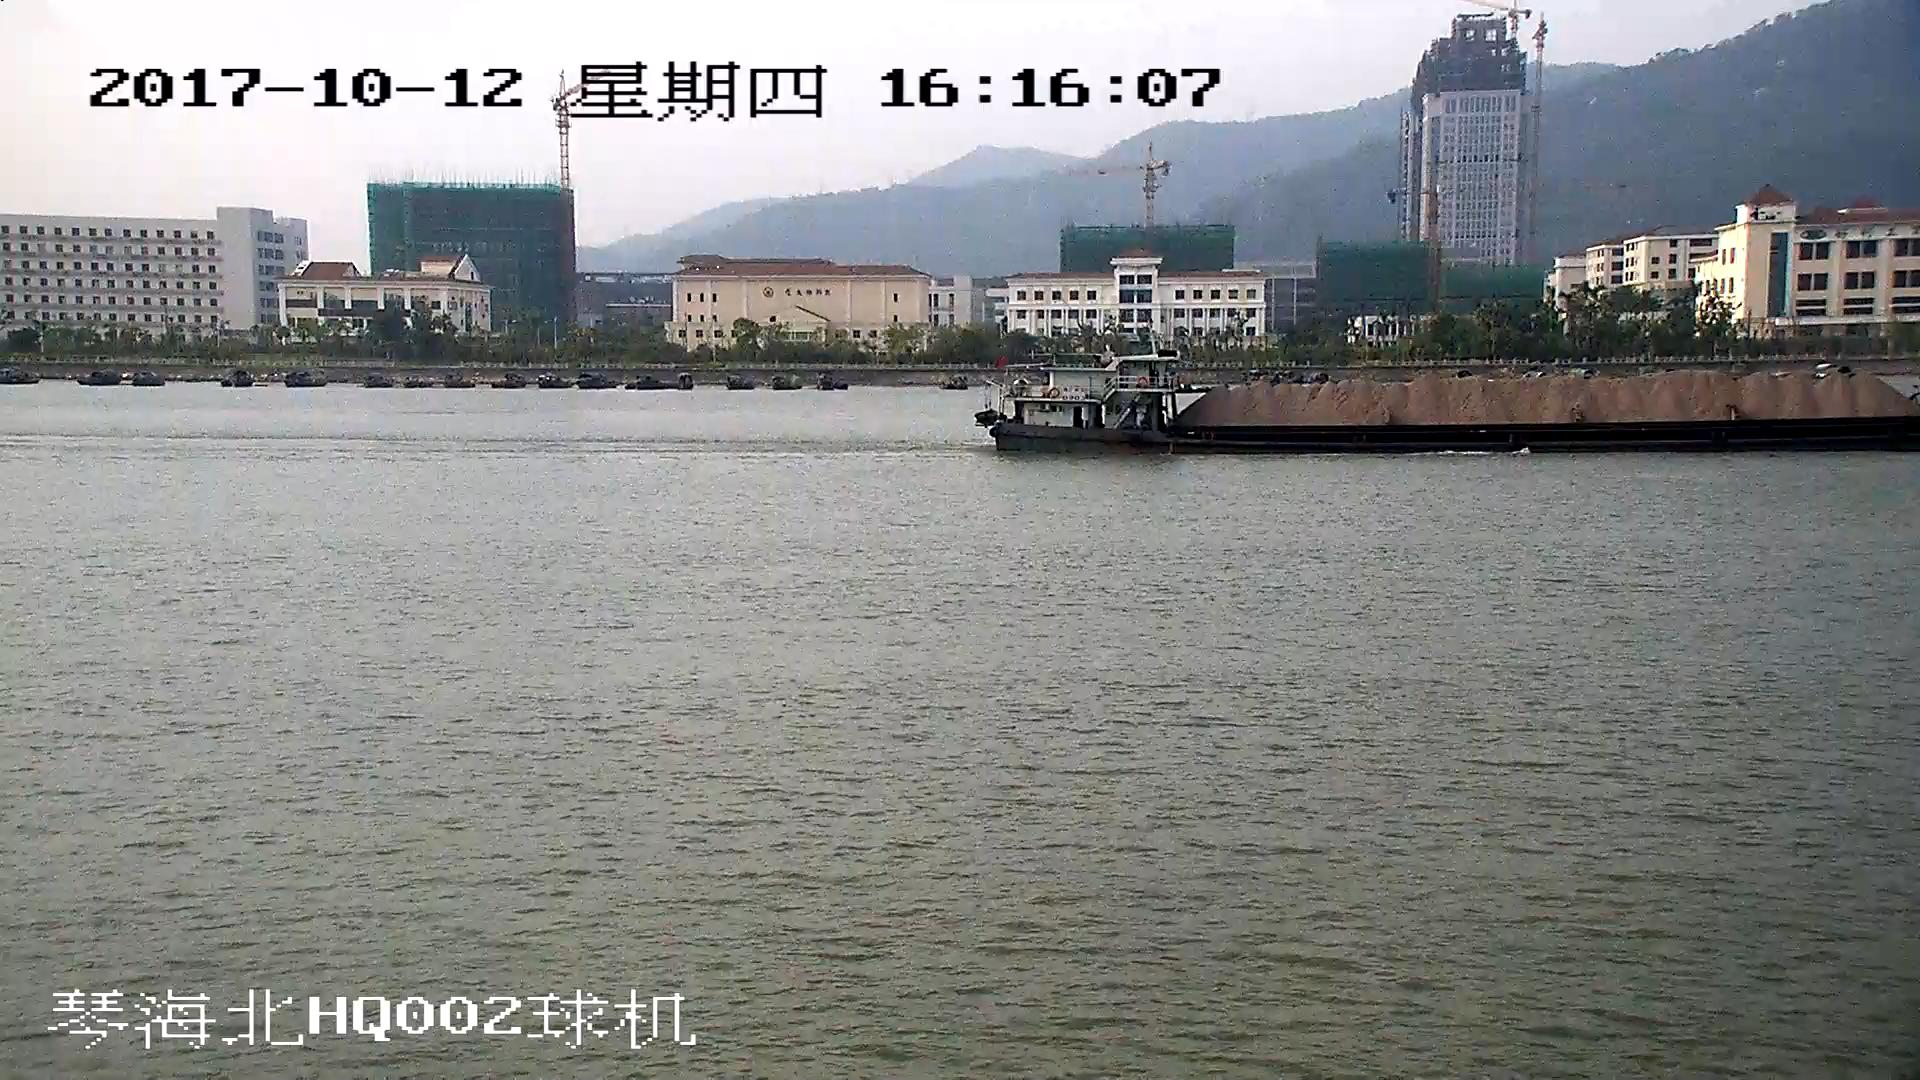ore carrier: (983, 362, 1920, 454)
